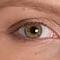eye: (24, 24, 43, 38)
